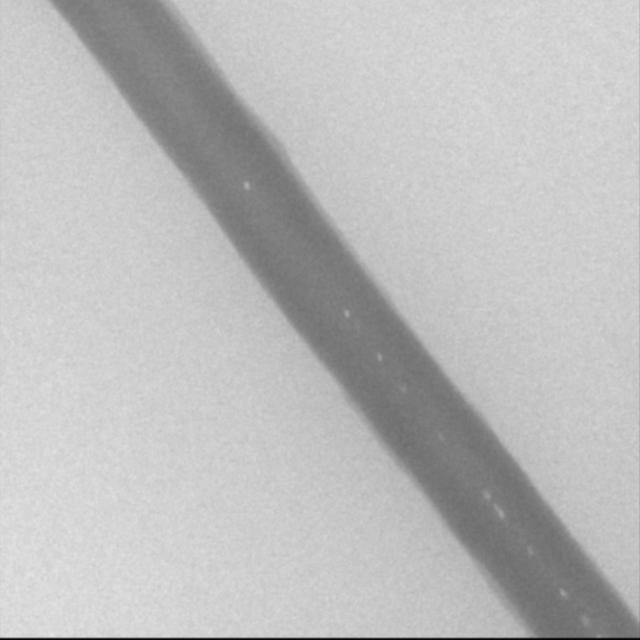air hole: (341, 308, 351, 320), (242, 179, 251, 192), (482, 489, 491, 502), (375, 352, 384, 364), (558, 587, 567, 599)
